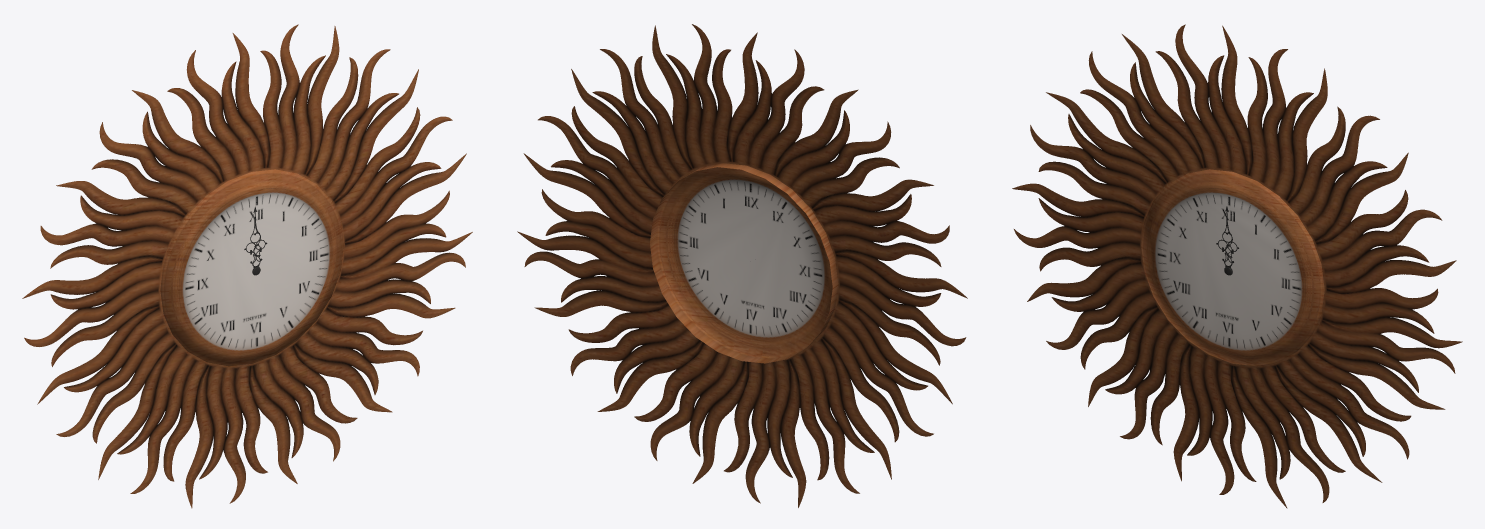
The model's file is wanduhr_04.fbx.
3 renders of one model, left to right at view 1: azimuth 30°, elevation 25°; view 2: azimuth 150°, elevation 25°; view 3: azimuth 330°, elevation 25°, orthographic.
Parts seen in each view (by area): view 1: wanduhr_04; view 2: wanduhr_04; view 3: wanduhr_04.
Boxes of the visible parts, x1,y1,x2,y2 form: wanduhr_04: (22,24,472,508); wanduhr_04: (517,24,967,507); wanduhr_04: (1012,24,1462,508).
Bounding box in the file's own units: 96.72 × 96.72 × 3.79.
